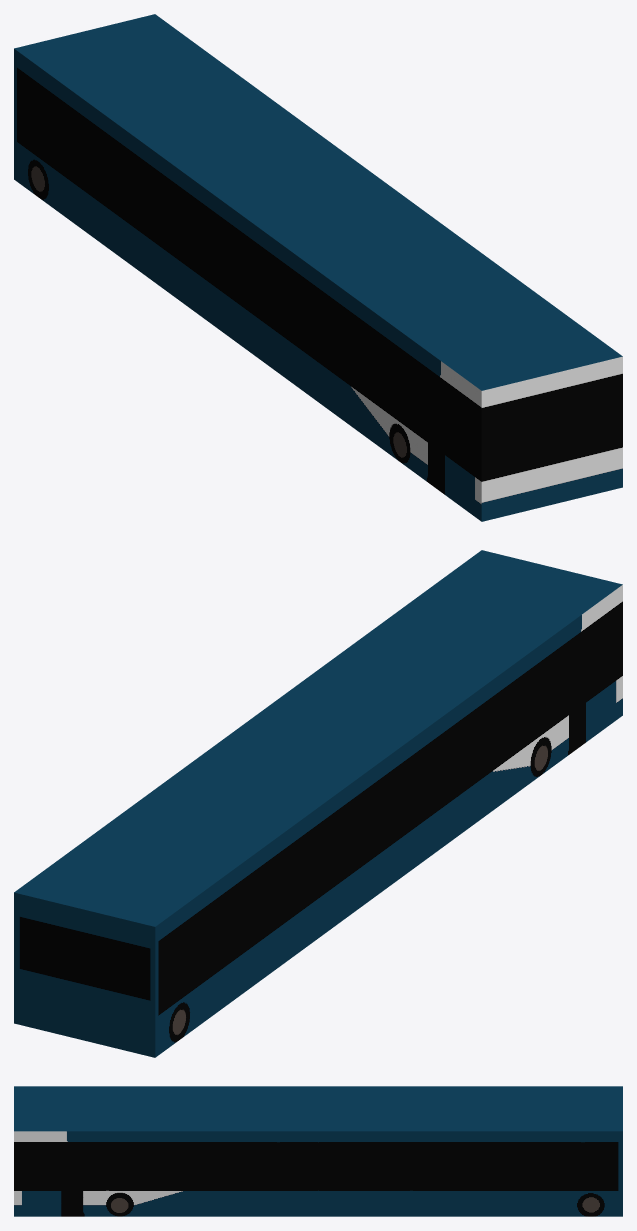
File: bus.FBX
3 views of the same model, one above another, from view 1: azimuth 30°, elevation 25°; view 2: azimuth 150°, elevation 25°; view 3: azimuth 270°, elevation 25° (orthographic). The views are drawn at different scales.
Parts seen in each view (by area): view 1: Box076; view 2: Box076; view 3: Box076.
Boxes of the visible parts, box(x1,y1,x2,y2) form: Box076: box(14, 14, 622, 521); Box076: box(14, 550, 622, 1057); Box076: box(14, 1086, 622, 1216).
Size of the model in its own units: 99.71 by 88.39 by 572.
